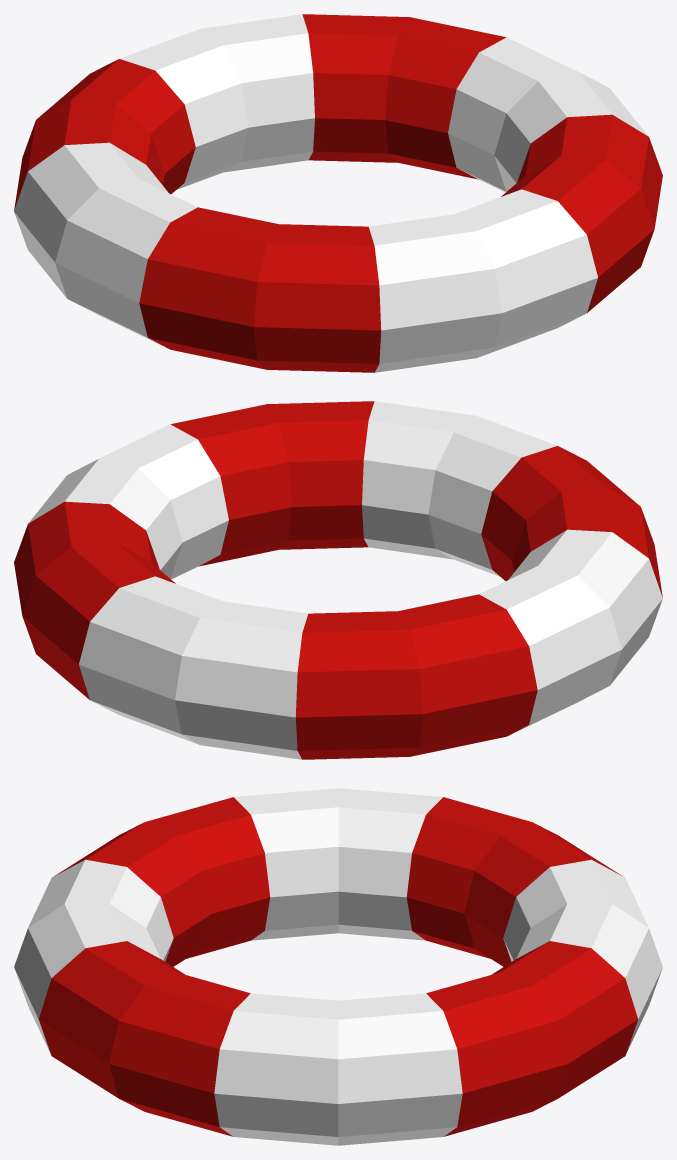
File: guma za spasavanje.fbx
The picture shows the model from 3 angles, top to bottom: view 1: azimuth 30°, elevation 25°; view 2: azimuth 150°, elevation 25°; view 3: azimuth 270°, elevation 25°; orthographic projection.
Visible parts, largest first — view 1: guma za spasavanje; view 2: guma za spasavanje; view 3: guma za spasavanje.
Part boxes in pixels (x1,y1,x2,y2): guma za spasavanje: (14,14,662,372); guma za spasavanje: (14,401,662,759); guma za spasavanje: (14,788,662,1145).
Bounding box in the file's own units: 1.82 × 1.82 × 0.3899.
